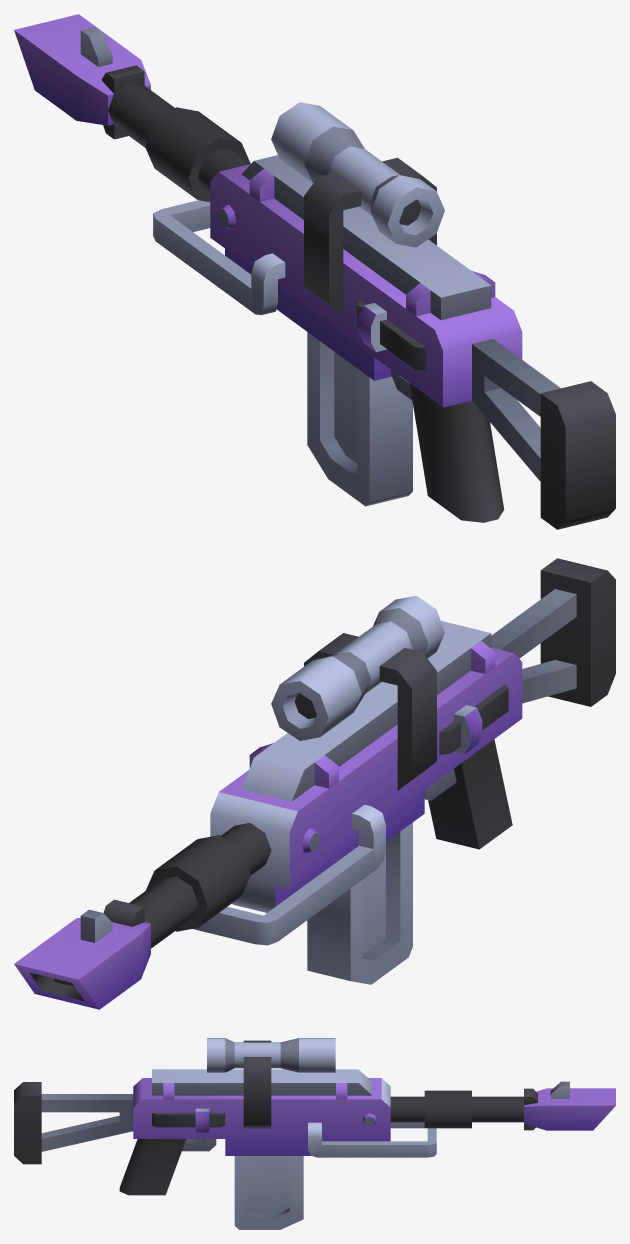
The model's file is blaster-f.glb.
The picture shows the model from 3 angles, top to bottom: view 1: azimuth 30°, elevation 25°; view 2: azimuth 150°, elevation 25°; view 3: azimuth 270°, elevation 25°; orthographic projection. The views are drawn at different scales.
Visible parts, largest first — view 1: blaster-f, scope, magazine; view 2: blaster-f, scope, magazine; view 3: blaster-f, scope, magazine.
Boxes of the visible parts, x1,y1,x2,y2 form: blaster-f: (14, 14, 615, 529); scope: (271, 102, 444, 315); magazine: (307, 332, 412, 506); blaster-f: (14, 558, 615, 1009); scope: (271, 595, 444, 790); magazine: (307, 822, 412, 984); blaster-f: (14, 1069, 615, 1195); scope: (207, 1038, 335, 1128); magazine: (234, 1156, 303, 1229).
Size of the model in its own units: 0.17 by 0.445 by 1.31.
Materials: 1 (1 with a texture image).
